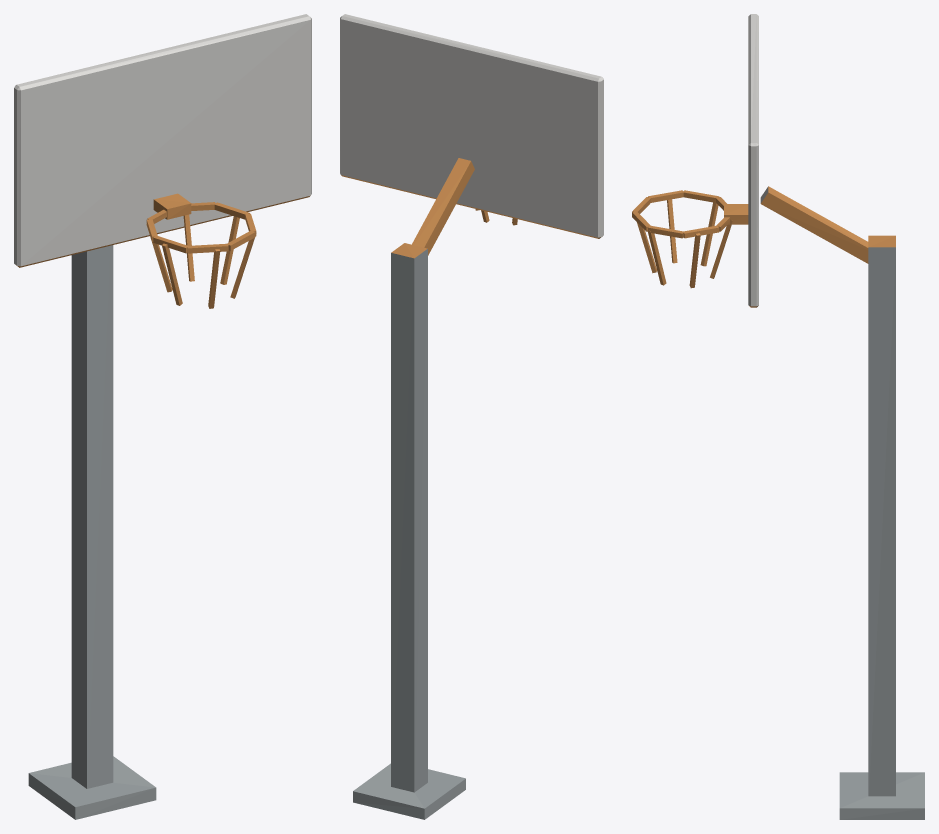
The model's file is basketball-hoop-00.glb.
3 renders of one model, left to right at view 1: azimuth 30°, elevation 25°; view 2: azimuth 150°, elevation 25°; view 3: azimuth 270°, elevation 25°, orthographic. The views are drawn at different scales.
Parts seen in each view (by area): view 1: basketball_hoop_00; view 2: basketball_hoop_00; view 3: basketball_hoop_00.
Part boxes in pixels (box(x1,y1,x2,y2)): basketball_hoop_00: box(14, 14, 311, 819); basketball_hoop_00: box(340, 14, 603, 819); basketball_hoop_00: box(632, 14, 924, 819).
Bounding box in the file's own units: 1.46 × 3.75 × 1.37.
